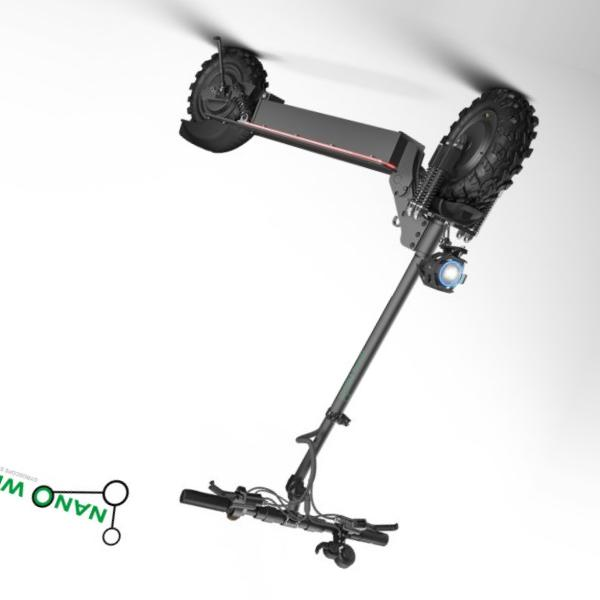scooter: (178, 36, 541, 571)
